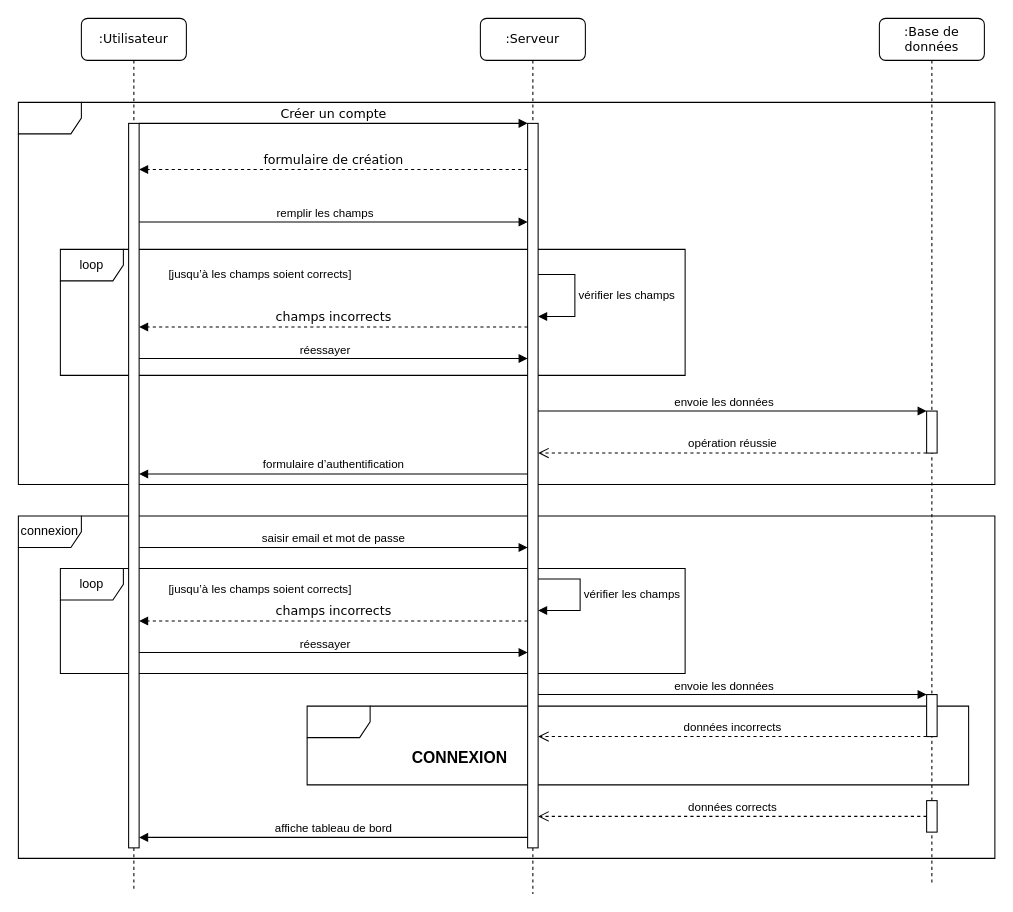
Image size: 1013x912. Some labels were removed from this diagram. The shapes that lost their labels are listed below. From the top down, each one's box as (x1, y1, x2, y2) in pixels, then its label:
(17, 101, 995, 485): Nouveau compte
(306, 705, 969, 785): ref
